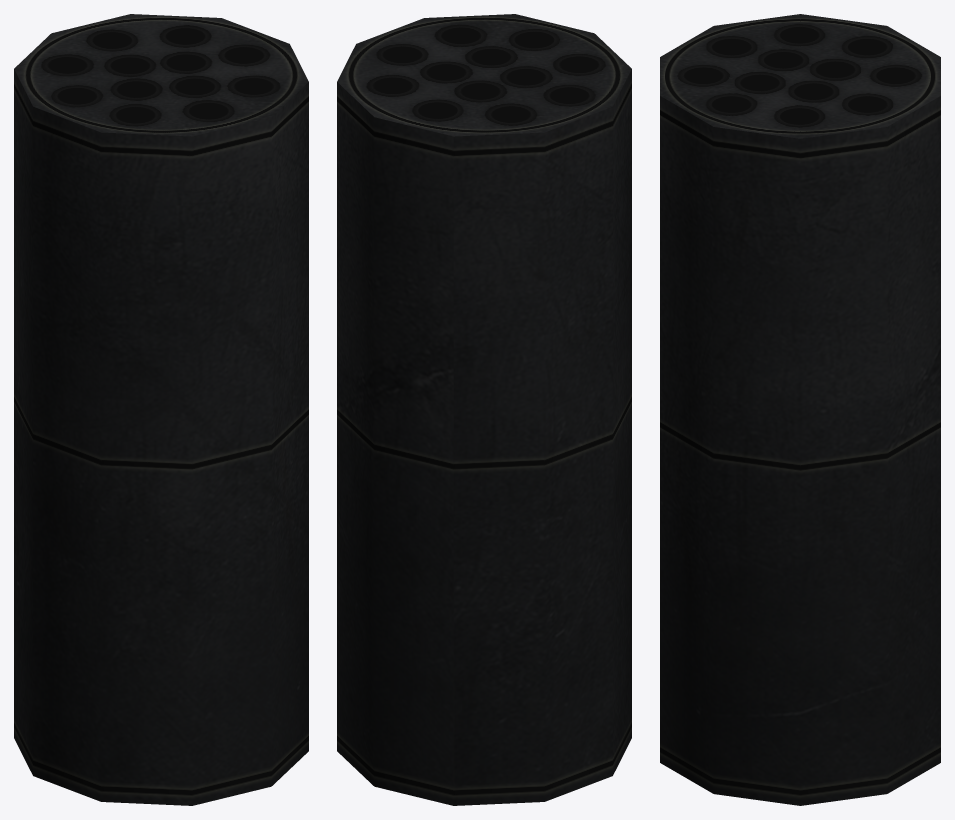
The model's file is weapon_minirocket.FBX.
The picture shows the model from 3 angles, left to right: view 1: azimuth 30°, elevation 25°; view 2: azimuth 150°, elevation 25°; view 3: azimuth 270°, elevation 25°; orthographic projection.
Parts seen in each view (by area): view 1: Cylinder001; view 2: Cylinder001; view 3: Cylinder001.
Boxes of the visible parts, x1,y1,x2,y2 form: Cylinder001: [14, 14, 308, 805]; Cylinder001: [337, 14, 631, 805]; Cylinder001: [660, 14, 940, 805].
Size of the model in its own units: 8.25 by 20.55 by 7.84.
Materials: 1 (1 with a texture image).
